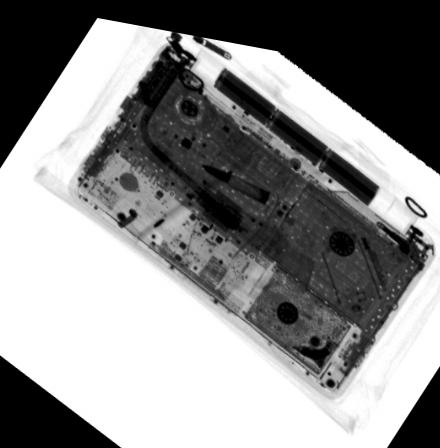Bullet: (198, 155, 270, 195)
